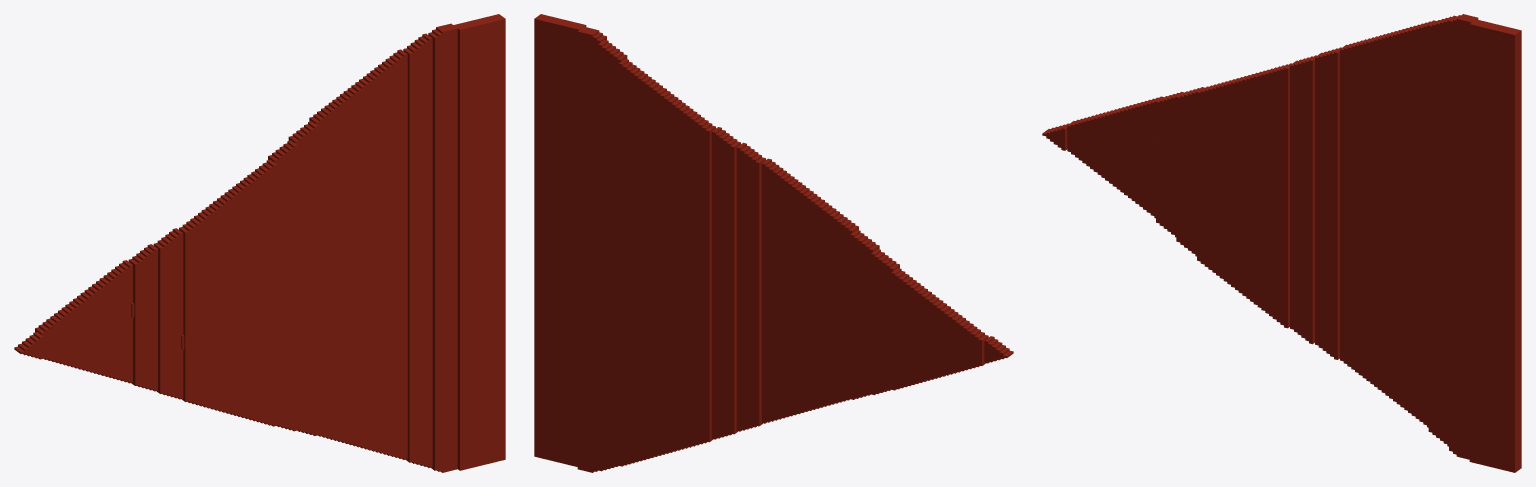
File: flag_full1-0.obj
The picture shows the model from 3 angles, left to right: view 1: azimuth 30°, elevation 25°; view 2: azimuth 150°, elevation 25°; view 3: azimuth 330°, elevation 25°; orthographic projection.
Bounding box in the file's own units: 25.2 × 22.1 × 1.2.
1 material, 1 textured.
